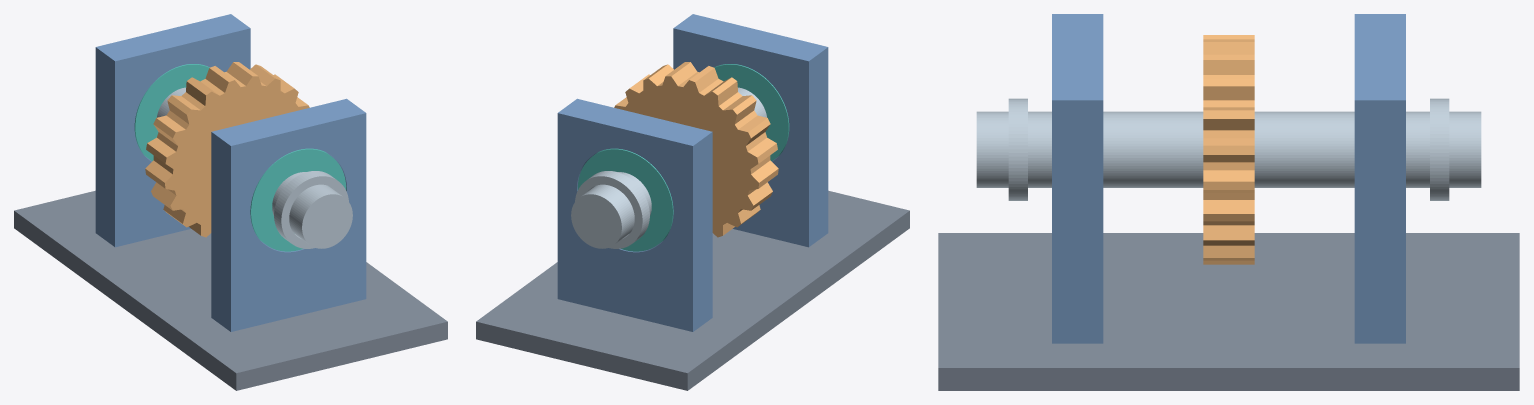
File: assembly.glb
3 renders of one model, left to right at view 1: azimuth 30°, elevation 25°; view 2: azimuth 150°, elevation 25°; view 3: azimuth 270°, elevation 25°, orthographic. The views are drawn at different scales.
Parts seen in each view (by area): view 1: base, rear_housing, front_housing, gear, shaft, rear_bearing, front_bearing, rear_retainer; view 2: base, front_housing, rear_housing, gear, shaft, front_bearing, rear_bearing, front_retainer; view 3: base, shaft, front_housing, rear_housing, gear, front_retainer, rear_retainer.
Part boxes in pixels (x1=…): base: x1=14, y1=190, x2=447, y2=390; rear_housing: x1=211, y1=98, x2=366, y2=331; front_housing: x1=95, y1=14, x2=250, y2=247; gear: x1=145, y1=62, x2=309, y2=237; shaft: x1=157, y1=87, x2=352, y2=248; rear_bearing: x1=250, y1=148, x2=346, y2=251; front_bearing: x1=134, y1=64, x2=209, y2=161; rear_retainer: x1=274, y1=171, x2=348, y2=248; base: x1=476, y1=190, x2=909, y2=390; front_housing: x1=557, y1=98, x2=712, y2=331; rear_housing: x1=673, y1=14, x2=828, y2=247; gear: x1=614, y1=62, x2=778, y2=237; shaft: x1=571, y1=87, x2=766, y2=248; front_bearing: x1=577, y1=148, x2=673, y2=251; rear_bearing: x1=714, y1=64, x2=789, y2=161; front_retainer: x1=575, y1=171, x2=649, y2=248; base: x1=938, y1=233, x2=1519, y2=390; shaft: x1=976, y1=111, x2=1481, y2=187; front_housing: x1=1354, y1=14, x2=1405, y2=343; rear_housing: x1=1052, y1=14, x2=1103, y2=343; gear: x1=1203, y1=35, x2=1254, y2=264; front_retainer: x1=1430, y1=98, x2=1449, y2=200; rear_retainer: x1=1008, y1=98, x2=1027, y2=200.
Bounding box in the file's own units: 0.0555 × 0.0532 × 0.1009.
